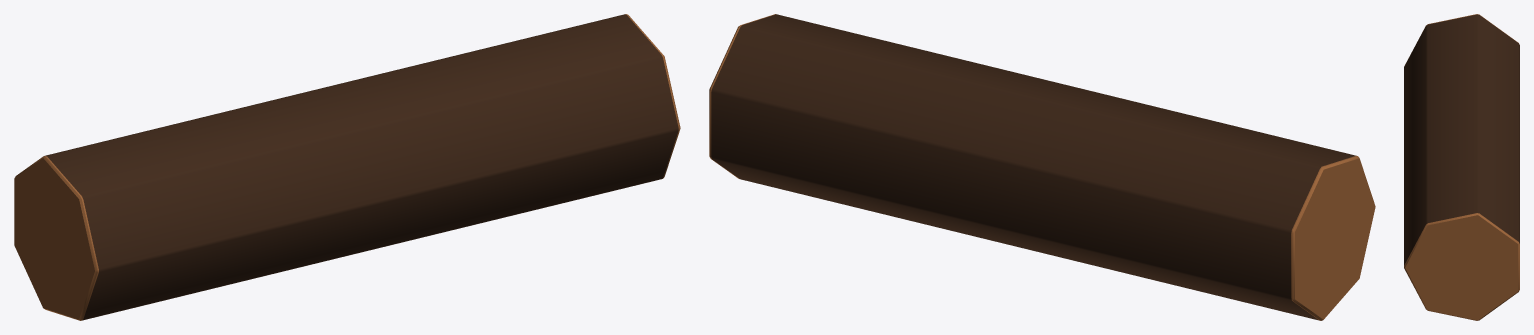
3 renders of one model, left to right at view 1: azimuth 30°, elevation 25°; view 2: azimuth 150°, elevation 25°; view 3: azimuth 270°, elevation 25°, orthographic. The views are drawn at different scales.
Visible parts, largest first — view 1: PT-wood_dark, PT-wood_warm; view 2: PT-wood_dark, PT-wood_warm; view 3: PT-wood_dark, PT-wood_warm.
Boxes of the visible parts, bbox=[...] form: PT-wood_dark: bbox=[45, 14, 678, 320]; PT-wood_warm: bbox=[14, 14, 680, 320]; PT-wood_dark: bbox=[711, 14, 1355, 320]; PT-wood_warm: bbox=[709, 14, 1375, 320]; PT-wood_dark: bbox=[1404, 14, 1519, 265]; PT-wood_warm: bbox=[1404, 14, 1519, 320].
Bounding box in the file's own units: 1.71 × 0.4267 × 0.416.
